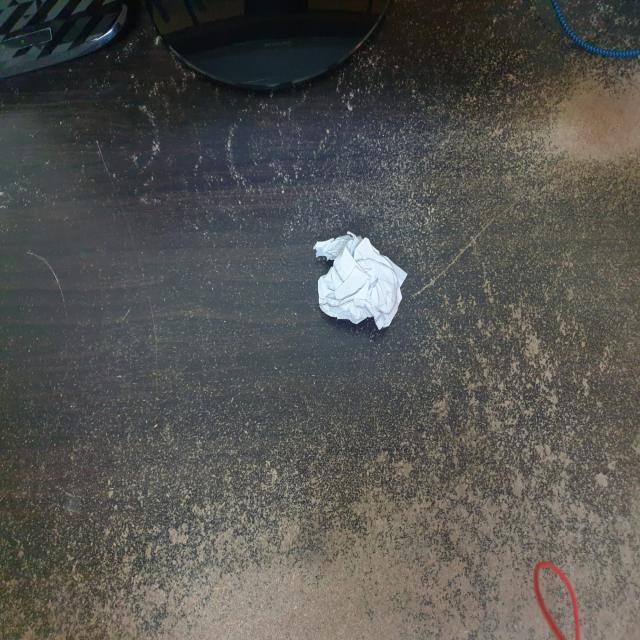Paper: (317, 234, 409, 338)
